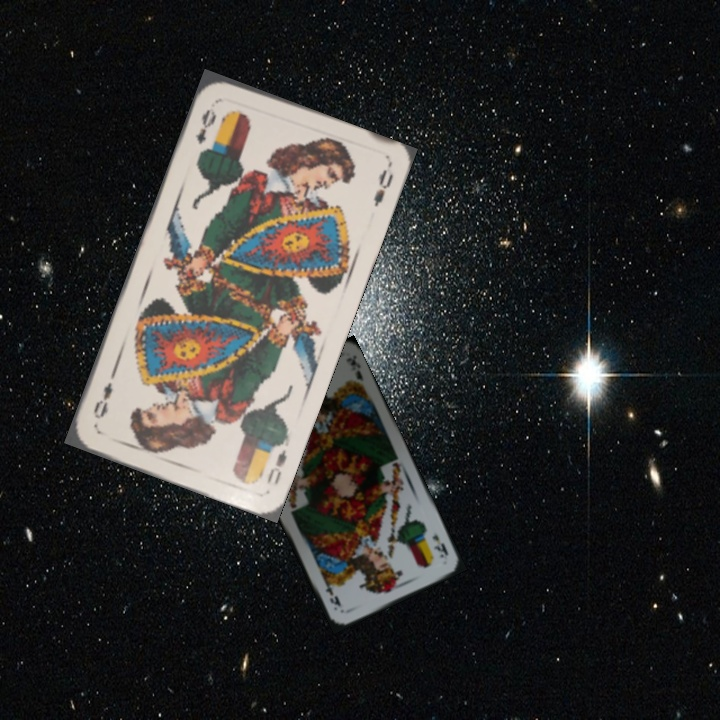EK: (428, 531, 451, 560)
EO: (191, 103, 219, 147), (262, 445, 290, 487)
